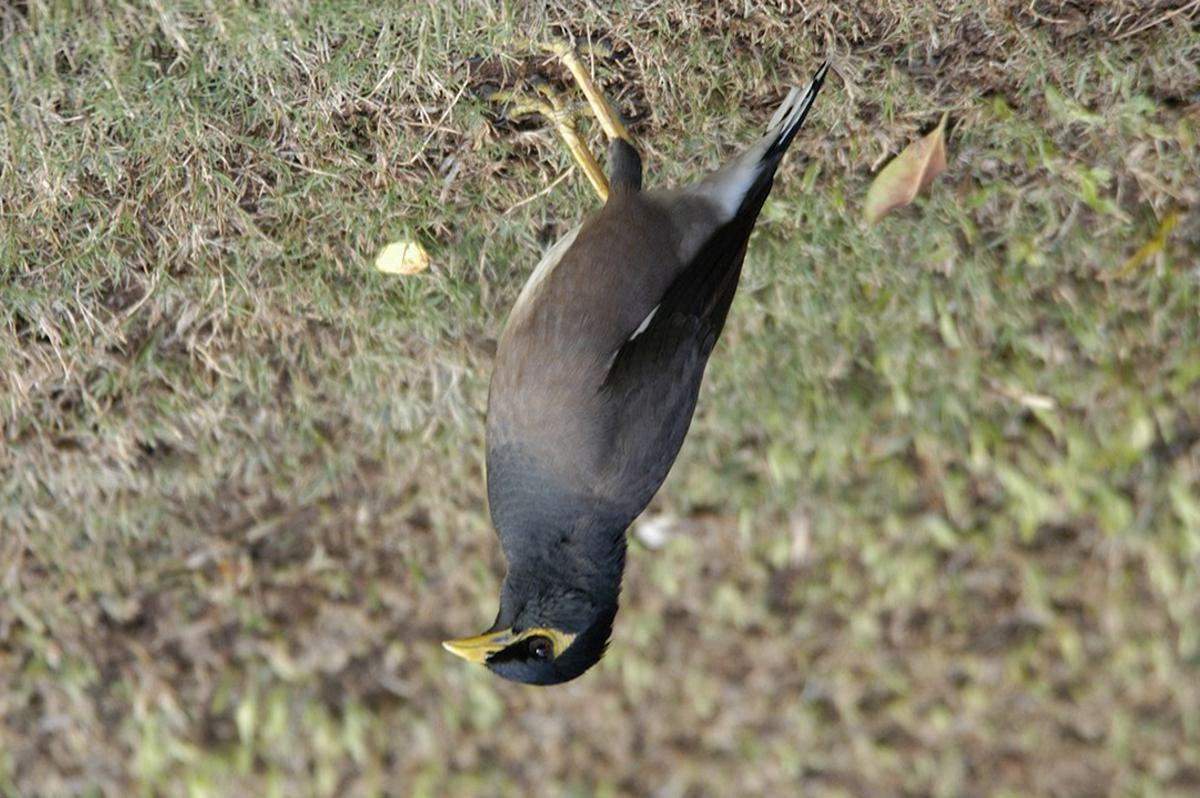myna: (418, 59, 811, 695)
